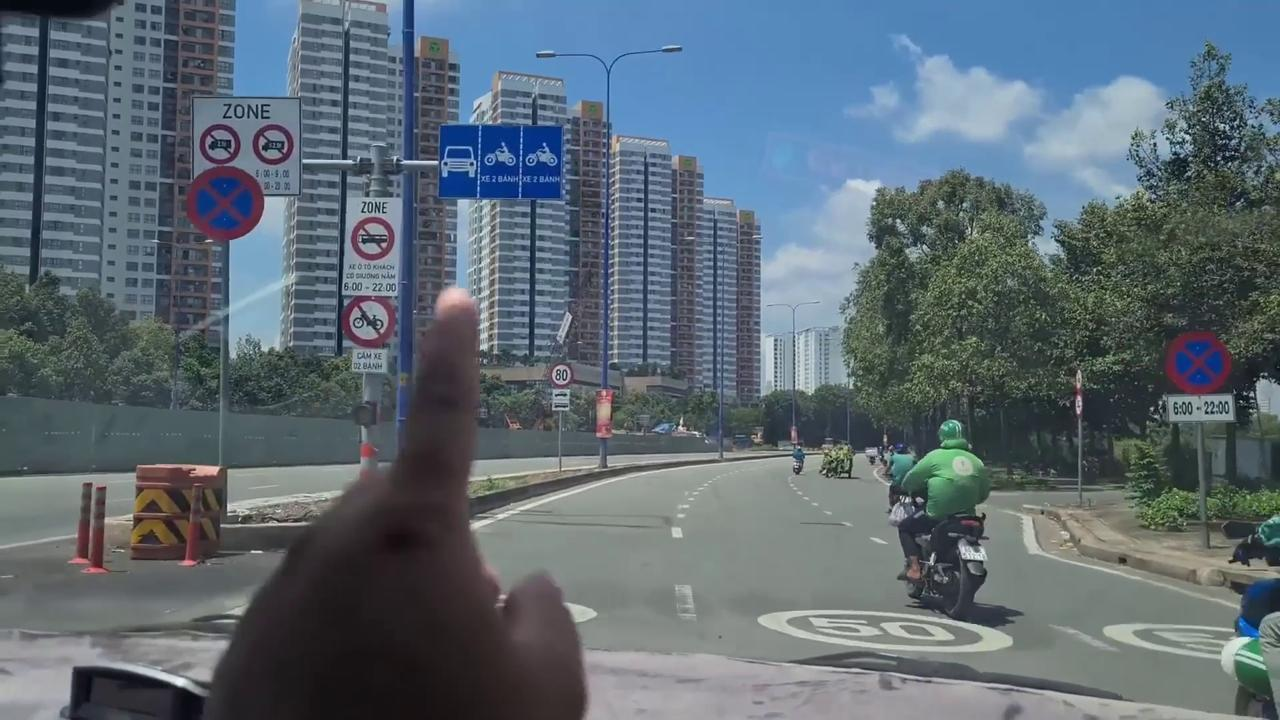Biển phụ: (1164, 392, 1237, 425), (351, 348, 388, 374), (552, 388, 572, 411)
Cấm cac phương tiện hoạt động trong khung giờ cố định: (186, 93, 304, 199), (341, 196, 402, 298)
Cấm dừng - Cấm đỗ: (184, 164, 266, 242), (1162, 329, 1233, 395)
Cấm xe máy: (342, 294, 396, 347)
Giới hạn tốc độ 80Km/h: (549, 362, 574, 388)
Làn đường cho từng xe: (435, 122, 566, 202)
